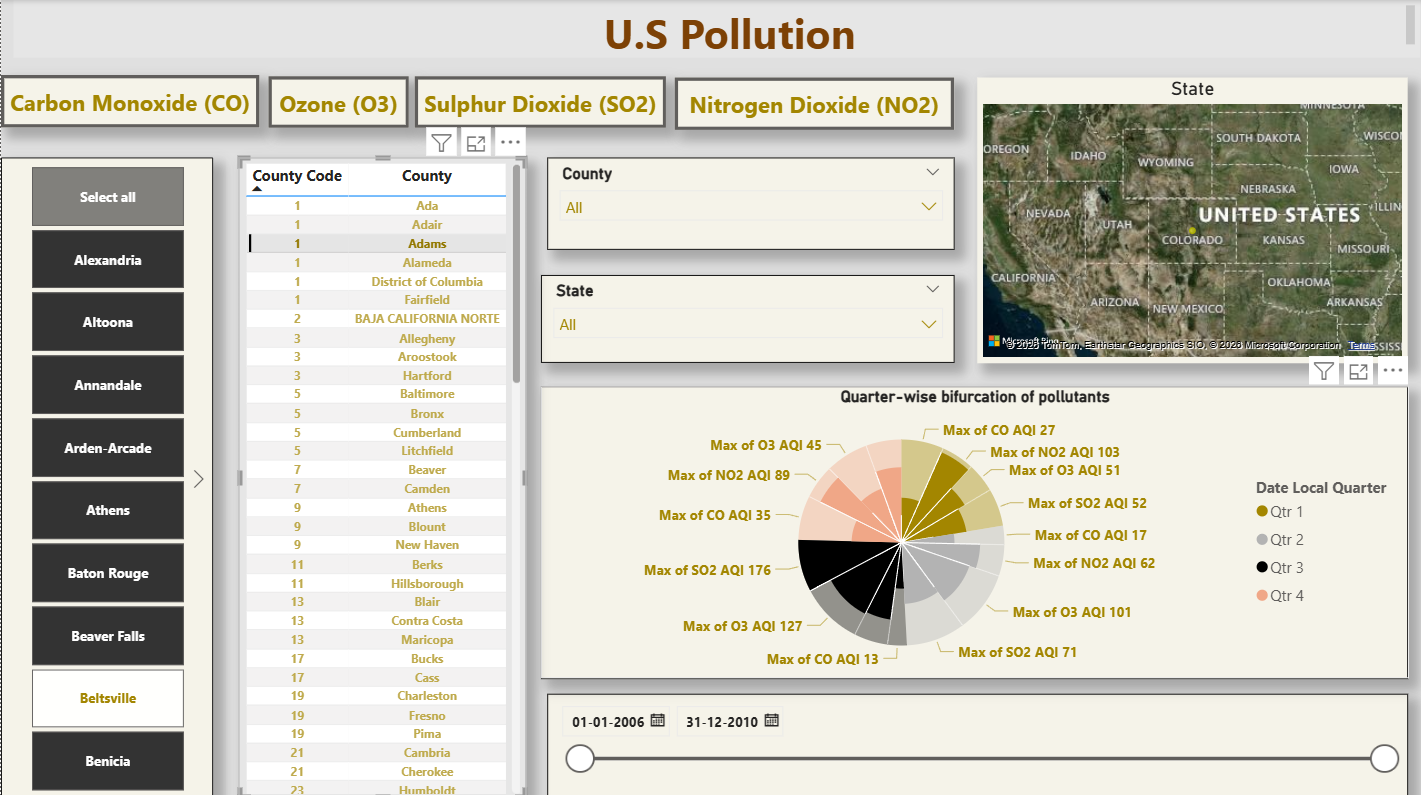

What the dashboard file says about the page in this screenshot:
{"tool":"powerbi","page":{"name":"Overview","canvas":[1280,720],"ordinal":0},"visuals":[{"type":"slicer","fields":{"Values":["US Pollution.County"]},"box":[492.3,142,367.3,83.3],"z":0},{"type":"slicer","fields":{"Values":["US Pollution.City"]},"box":[0,142.4,190.9,577.6],"z":1000},{"type":"slicer","fields":{"Values":["US Pollution.State"]},"box":[486.6,248,373,79.5],"z":2000},{"type":"actionButton","box":[0,68.2,232.9,47.3],"z":3000},{"type":"actionButton","box":[241.7,68.3,126.7,46.7],"z":4000},{"type":"actionButton","box":[373.3,68.3,226.7,46.7],"z":5000},{"type":"actionButton","box":[607.8,70.1,251.8,47.3],"z":6000},{"type":"tableEx","fields":{"Values":["US Pollution.County Code","US Pollution.County"]},"box":[214,142,259.4,577.5],"z":7000},{"type":"textbox","box":[11.7,0,1268.3,51.7],"z":8000},{"type":"map","fields":{"Category":["US Pollution.State"]},"box":[880.2,69.6,388.3,257.3],"z":9000},{"type":"slicer","fields":{"Values":["US Pollution.Date Local"]},"box":[492.3,624.9,776.3,94.7],"z":10000},{"type":"pieChart","title":"Quarter-wise bifurcation of pollutants","fields":{"Category":["US Pollution.Date Local.Variation.Date Hierarchy.Quarter"],"Y":["Max(US Pollution.CO AQI)","Max(US Pollution.NO2 AQI)","Max(US Pollution.O3 AQI)","Max(US Pollution.SO2 AQI)"]},"box":[487,347.9,781.5,263.7],"z":11000}]}

Visuals, with their boxes in screenshot pixels (x1, y1, x2, y2), scaled from the page's 1280x720 canvas onto the 1421x795 screenshot:
slicer - US Pollution.County: (left=547, top=157, right=954, bottom=249)
slicer - US Pollution.City: (left=0, top=157, right=212, bottom=794)
slicer - US Pollution.State: (left=540, top=274, right=954, bottom=362)
actionButton: (left=0, top=75, right=259, bottom=128)
actionButton: (left=268, top=75, right=409, bottom=127)
actionButton: (left=414, top=75, right=666, bottom=127)
actionButton: (left=675, top=77, right=954, bottom=130)
tableEx - US Pollution.County Code x US Pollution.County: (left=238, top=157, right=526, bottom=794)
textbox: (left=13, top=0, right=1420, bottom=57)
map - US Pollution.State: (left=977, top=77, right=1408, bottom=361)
slicer - US Pollution.Date Local: (left=547, top=690, right=1408, bottom=794)
"Quarter-wise bifurcation of pollutants" pieChart: (left=541, top=384, right=1408, bottom=675)
